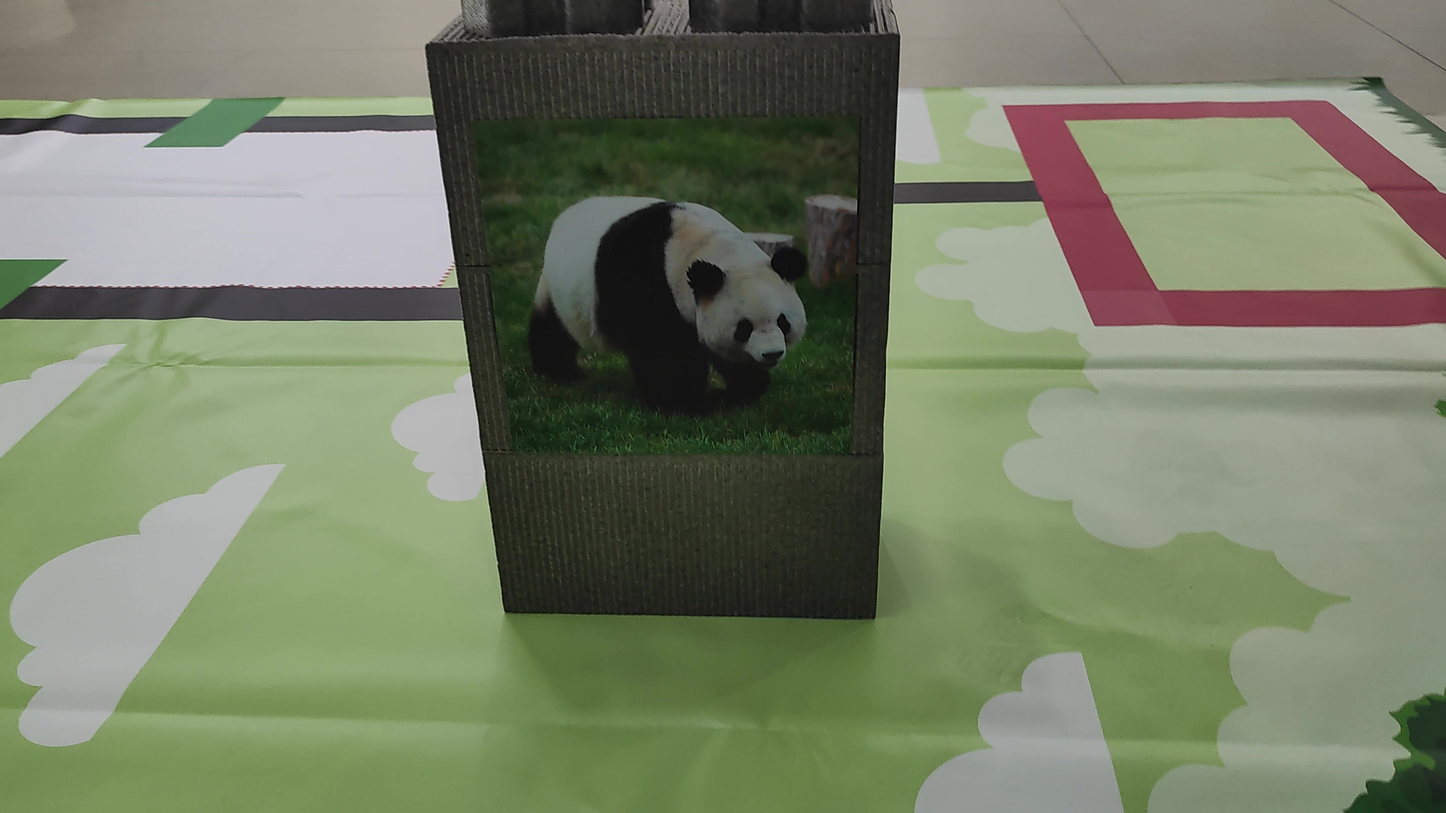panda: (506, 151, 843, 442)
